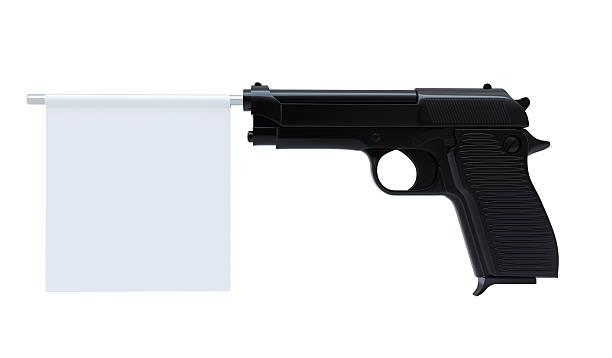weapon: (240, 77, 563, 301)
